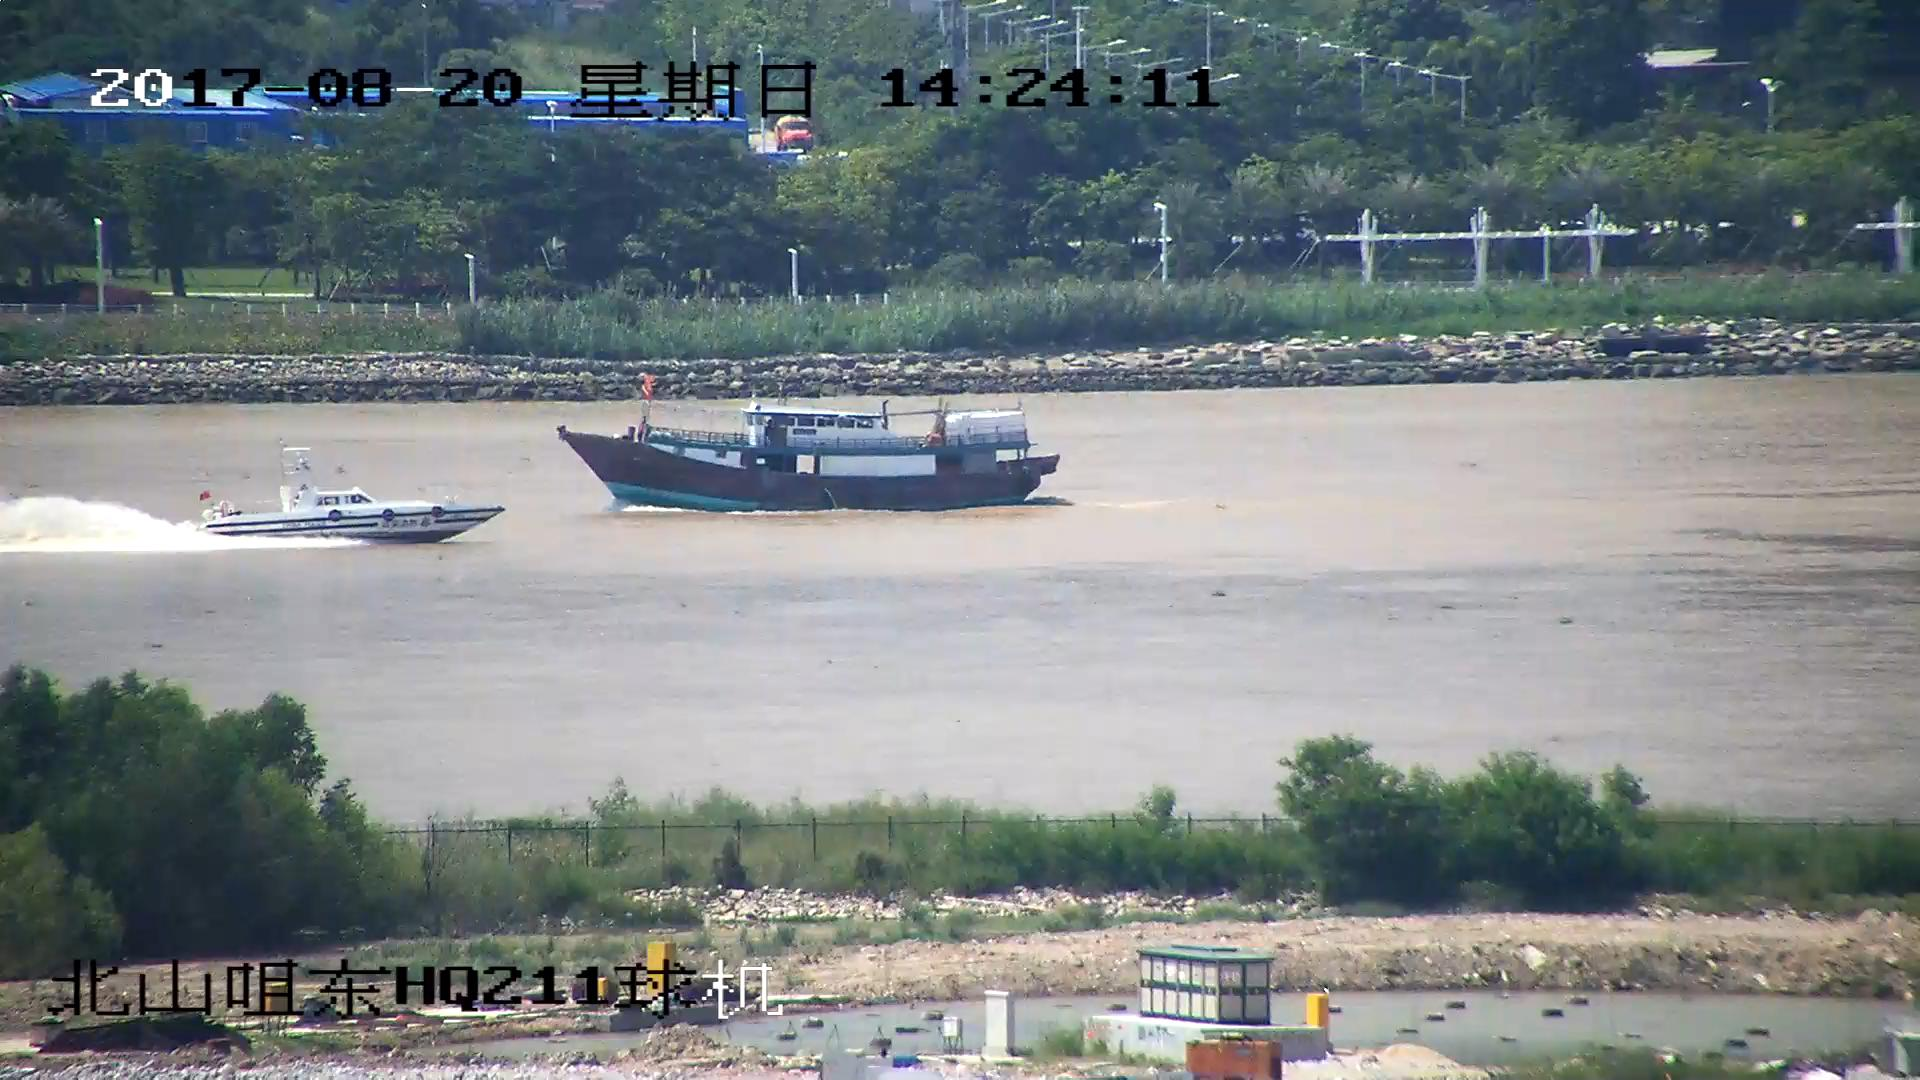fishing boat: (559, 381, 1061, 513)
passenger ship: (189, 448, 503, 548)
